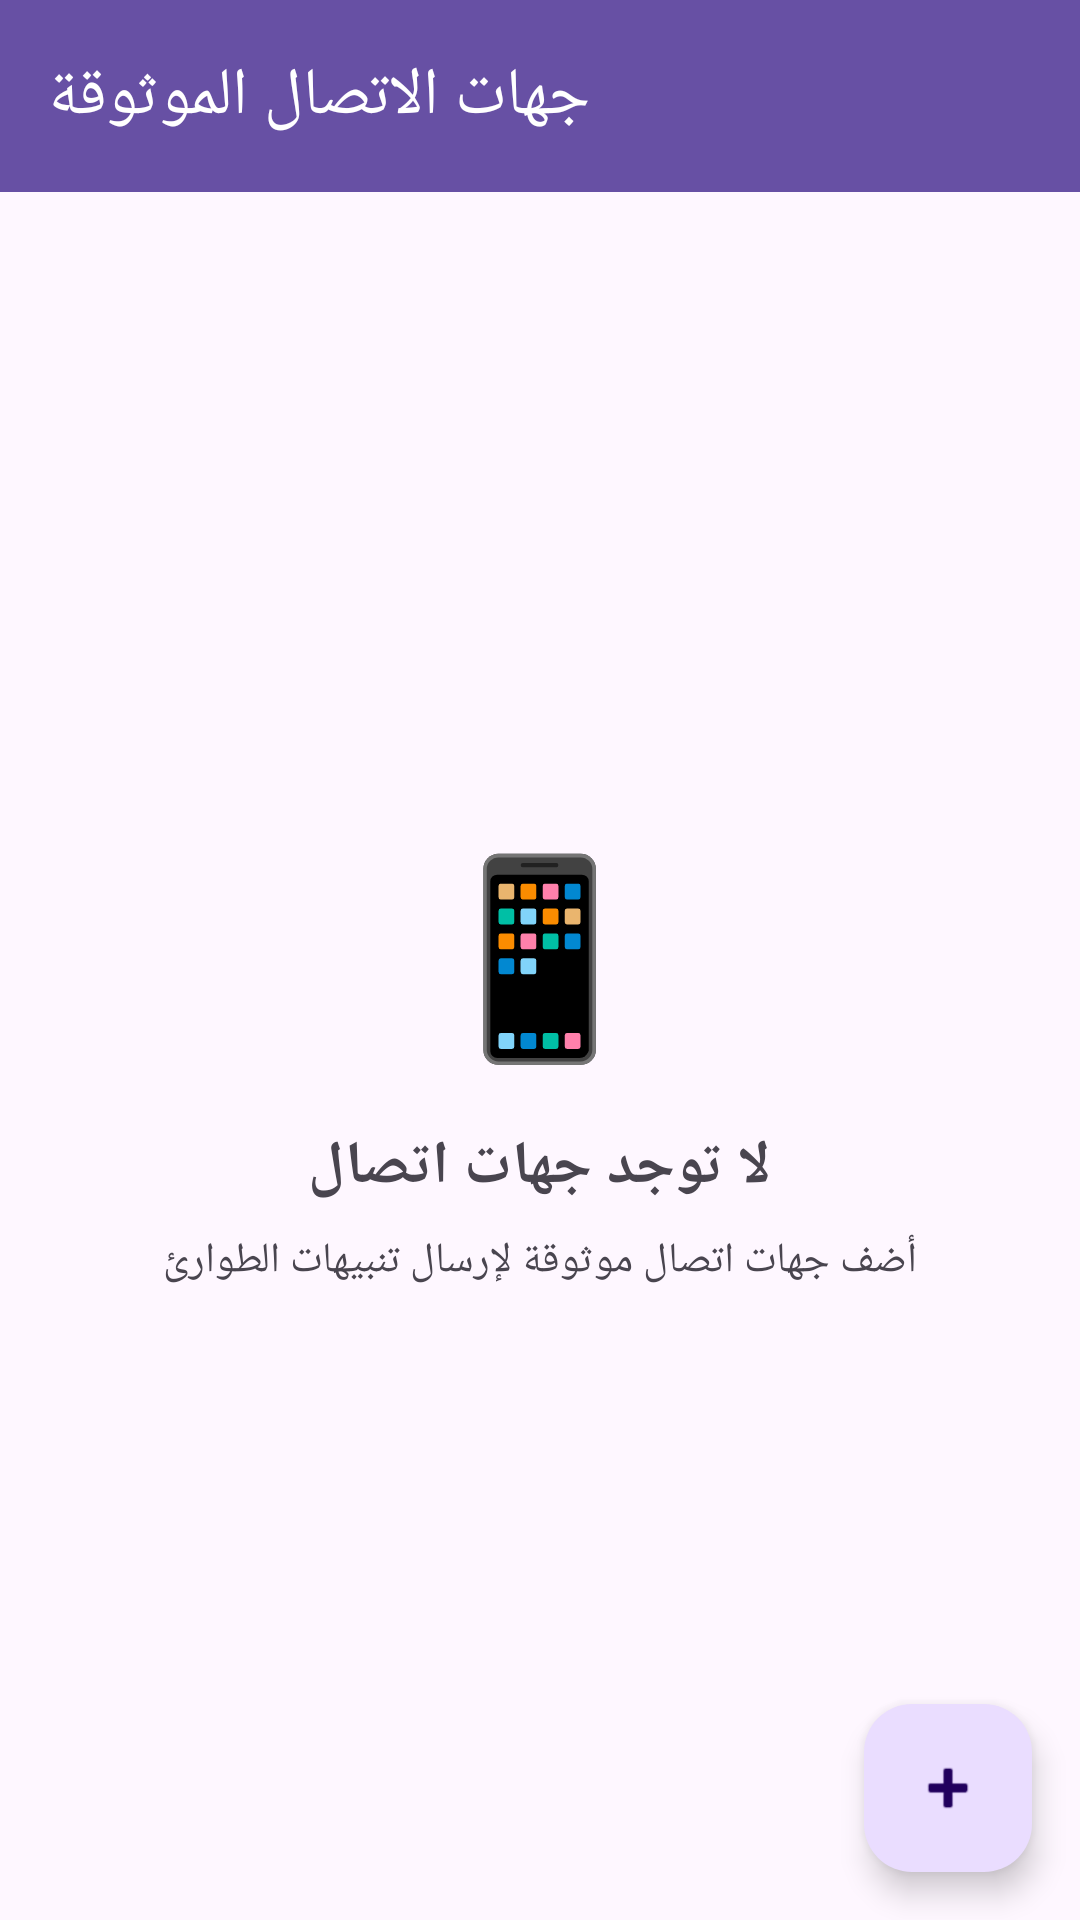

Icon click points for this 1080x1920 phone screenshot, format (x=x, y=y):
إضافة جهة اتصال: (x=948, y=1788)
